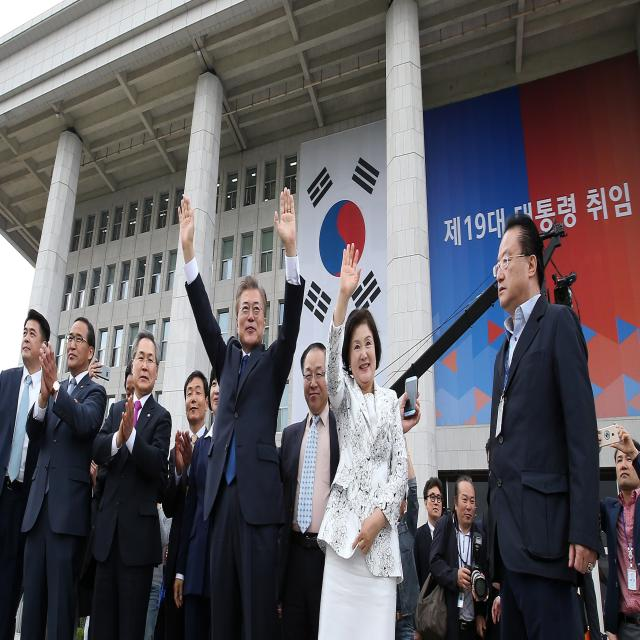body: (178, 187, 304, 639), (484, 210, 604, 640), (314, 236, 409, 640), (19, 314, 110, 640), (90, 324, 173, 640), (277, 340, 341, 639), (0, 304, 53, 638), (163, 367, 213, 640), (173, 366, 220, 640), (74, 346, 111, 636), (431, 473, 488, 640), (597, 423, 640, 640), (91, 358, 134, 539), (394, 432, 420, 640), (51, 438, 77, 640), (479, 436, 502, 640), (145, 490, 173, 640), (412, 476, 443, 601), (577, 534, 602, 640), (242, 180, 251, 208)
